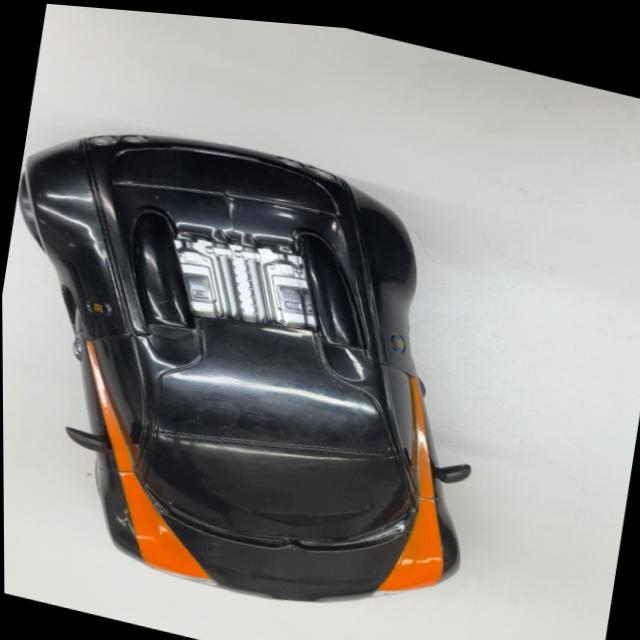vehicle_body: (1, 93, 528, 640)
